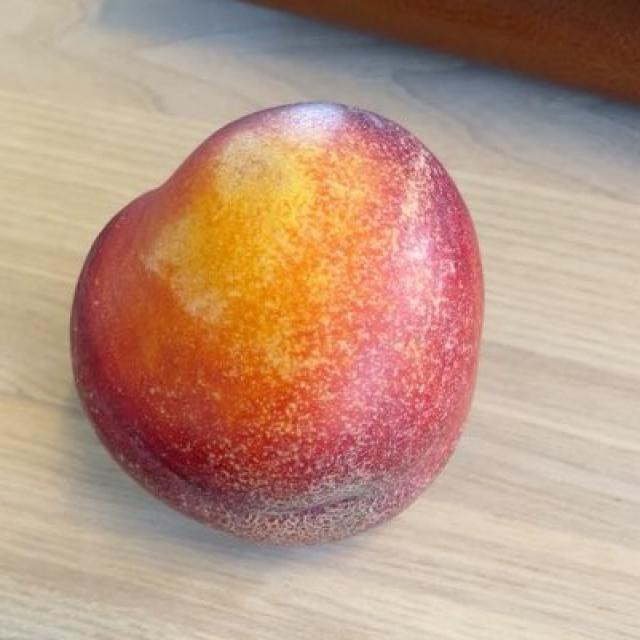nectarine: (77, 127, 481, 540)
